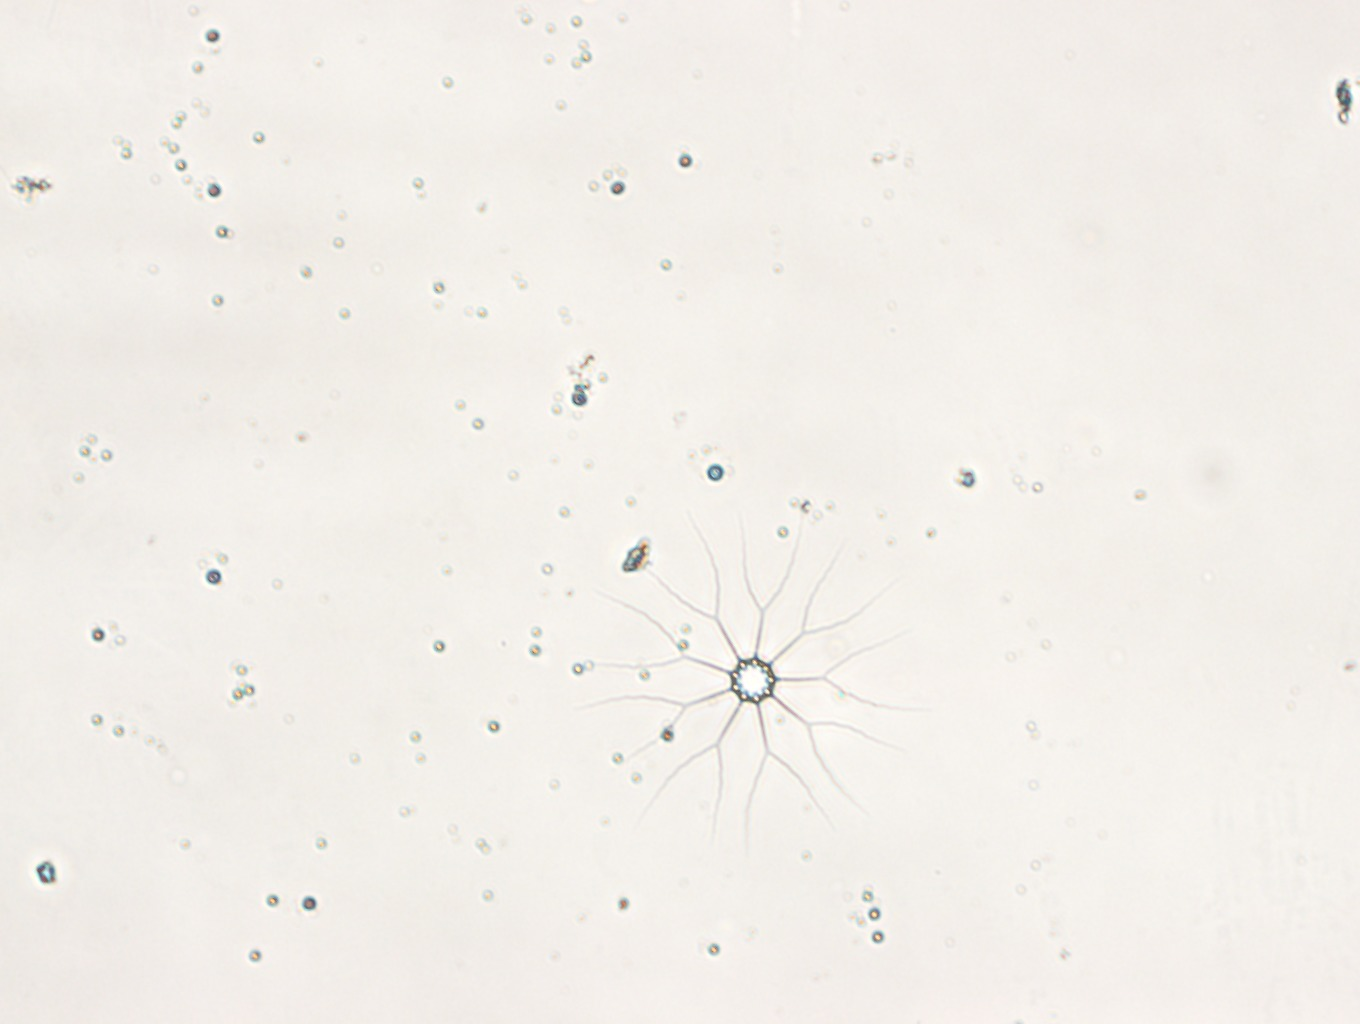bacteriastrum: (570, 504, 937, 835)
